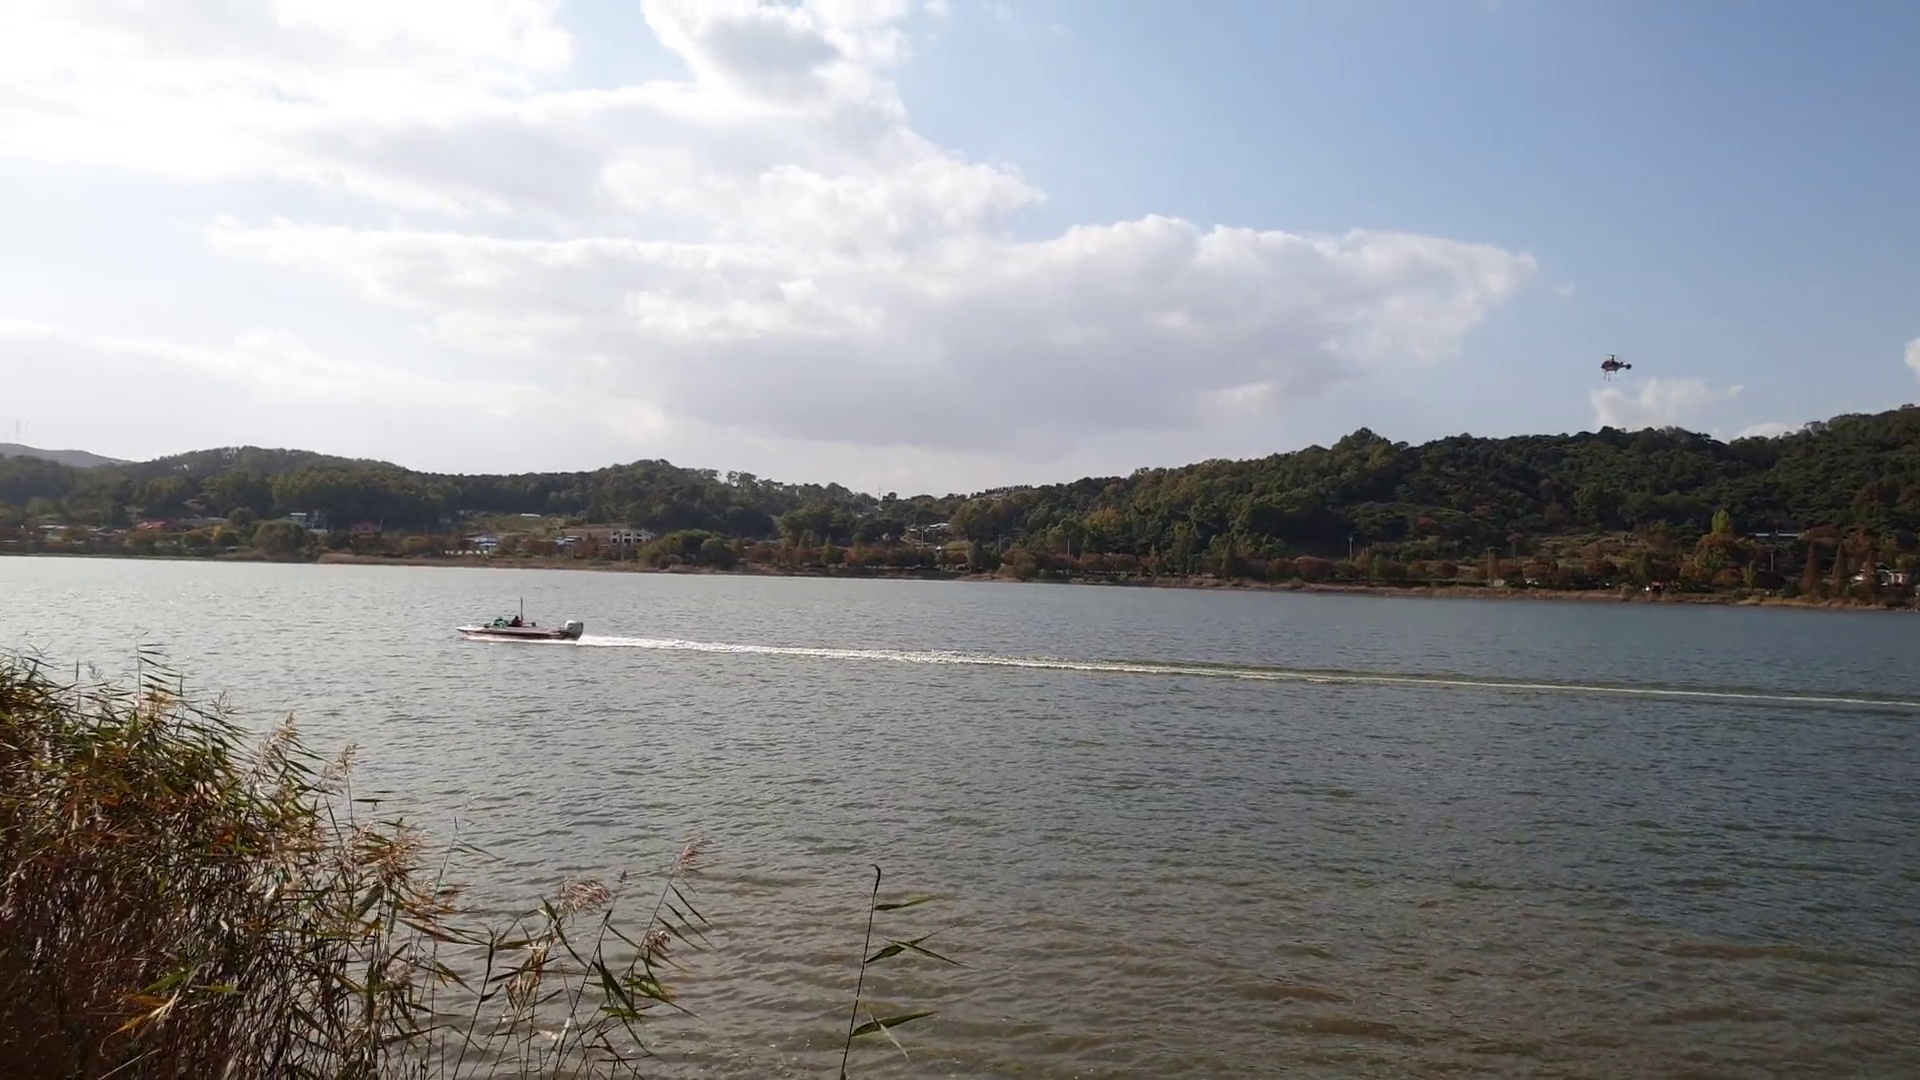heli: (1598, 352, 1633, 373)
